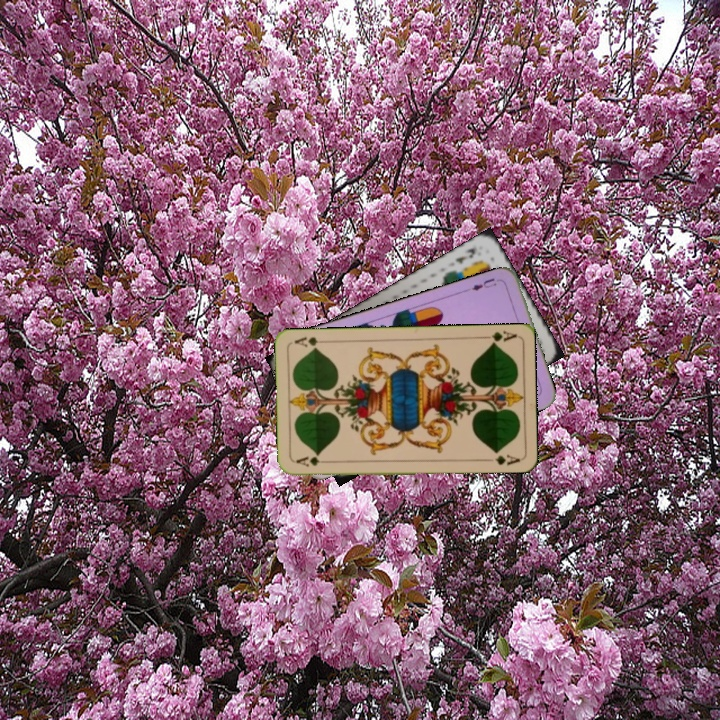EK: (451, 244, 479, 267)
EU: (467, 274, 503, 293)
GA: (478, 327, 518, 347), (292, 453, 332, 469)
